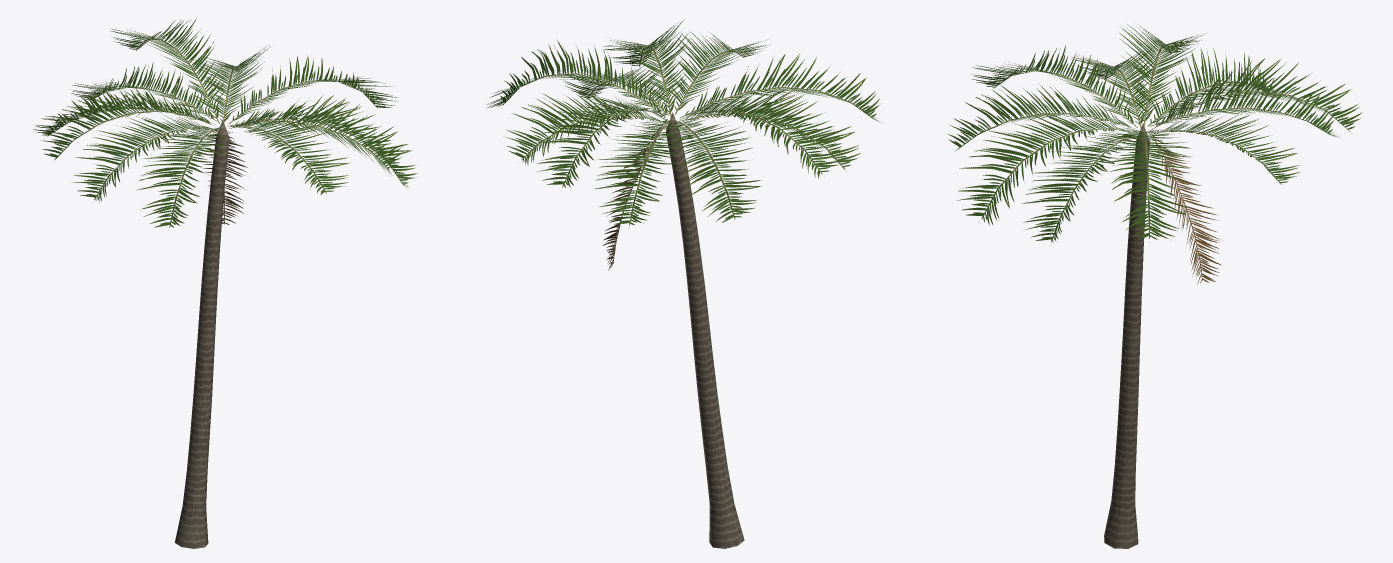
File: palm_tree_01_lod1.glb
3 renders of one model, left to right at view 1: azimuth 30°, elevation 25°; view 2: azimuth 150°, elevation 25°; view 3: azimuth 270°, elevation 25°, orthographic. The views are drawn at different scales.
Visible parts, largest first — view 1: palm_tree_01_lod1; view 2: palm_tree_01_lod1; view 3: palm_tree_01_lod1.
Part boxes in pixels (bbox=[...]): palm_tree_01_lod1: bbox=[33, 18, 417, 548]; palm_tree_01_lod1: bbox=[487, 20, 882, 548]; palm_tree_01_lod1: bbox=[948, 24, 1362, 548].
Size of the model in its own units: 7.28 by 8.73 by 7.2.
2 materials, 2 textured.
